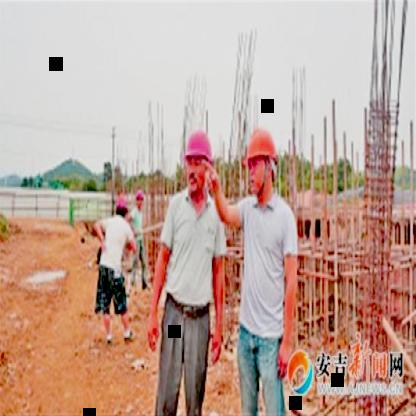helmet: (240, 119, 283, 201), (180, 122, 216, 200), (113, 194, 129, 220), (134, 187, 144, 212)
